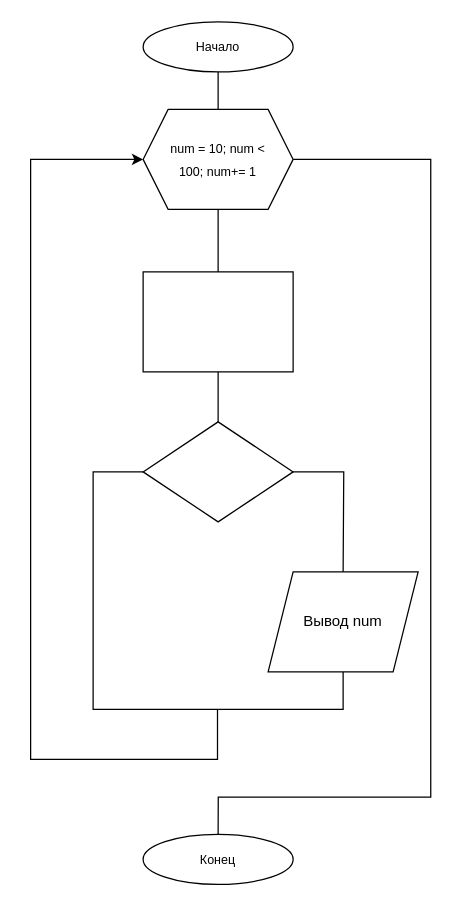
Some shapes in this 455 by 906 pixel diagram are drawn without their labels. Each missing label, with the centre of its shape:
sum_digits = (num%10)**2 + (num//10)**2: (x=217, y=321)
sum_digits%10=0: (x=217, y=471)
